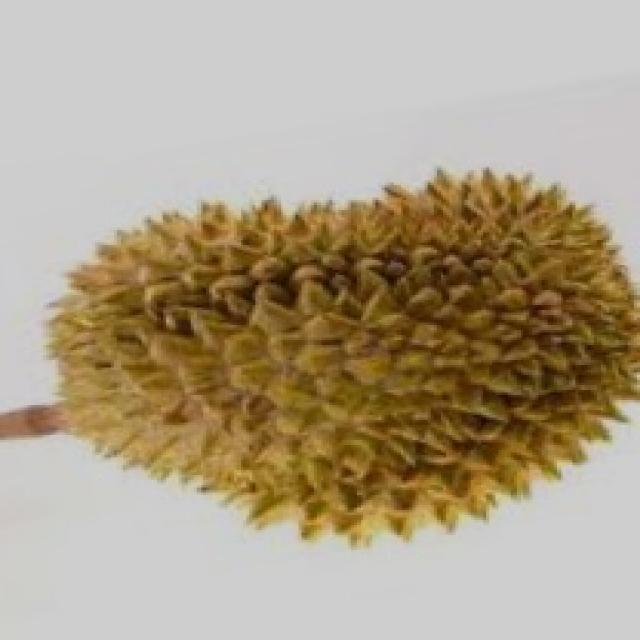fruit: (271, 155, 640, 605), (3, 168, 369, 598)
